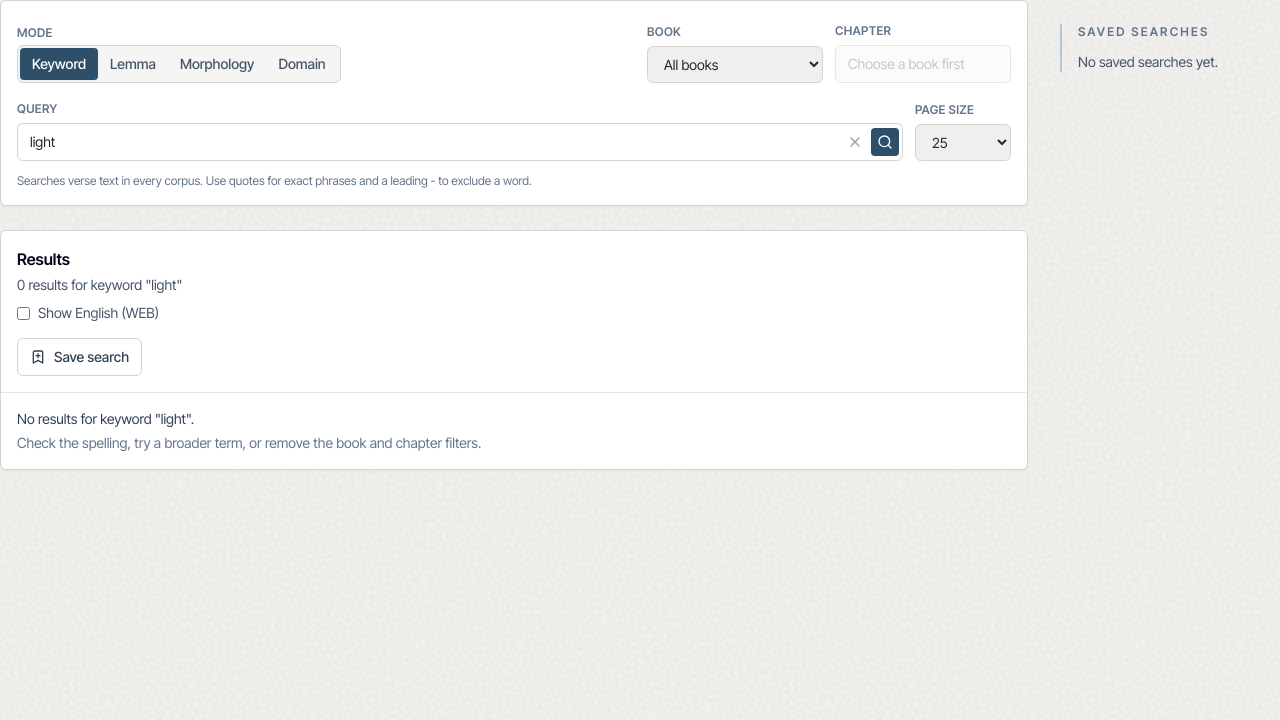
Test: SearchPanel save search payload › saves the executed search's mode, not a toggled-but-unsubmitted mode
The width and height of the screenshot is (1280, 720).
Click the radio button labelled "Lemma".
click(133, 64)  # box [110,55,156,72]
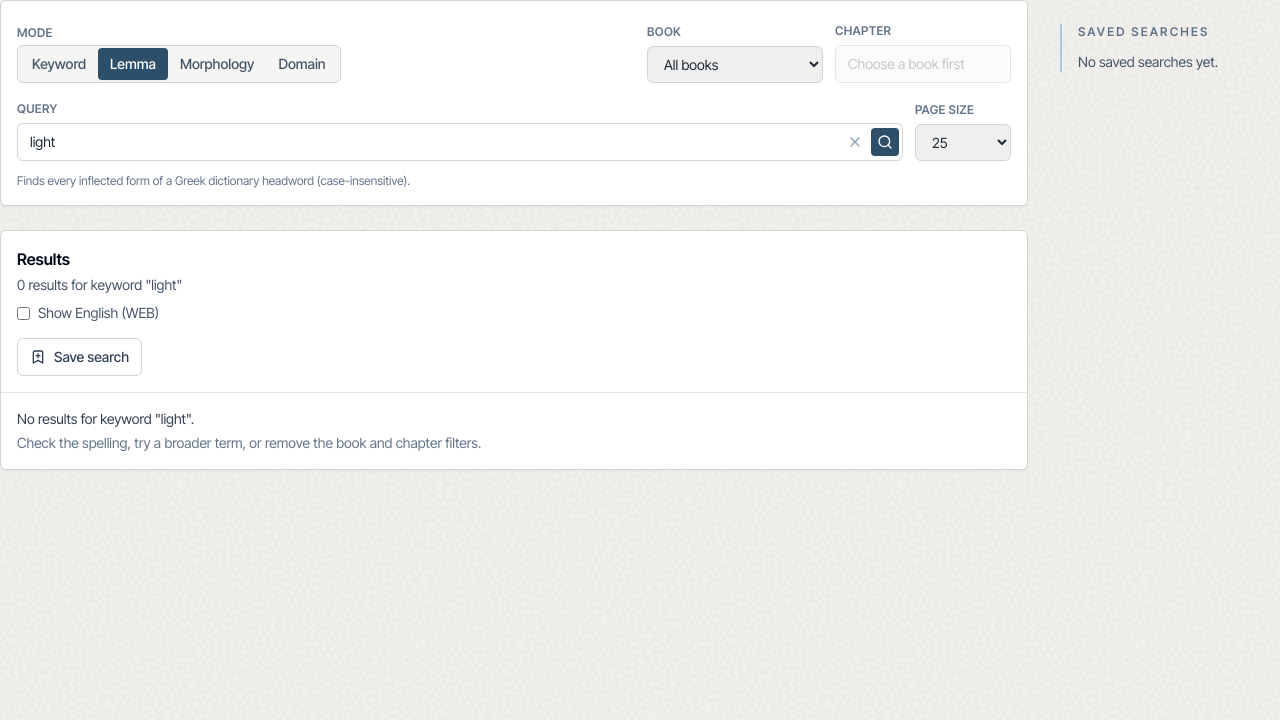
Click the button "Save search".
click(80, 356)  # box [17,338,142,376]
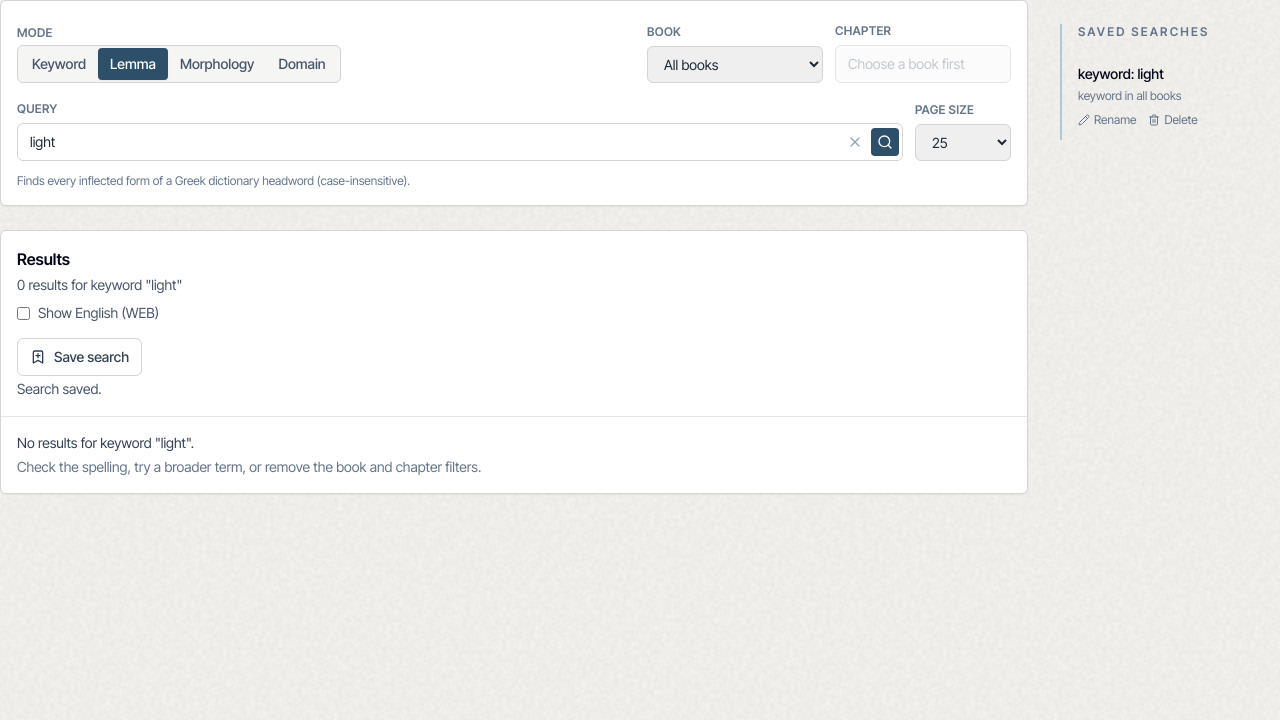
Expected: the text "Search saved." is shown, [17,380,102,396]
